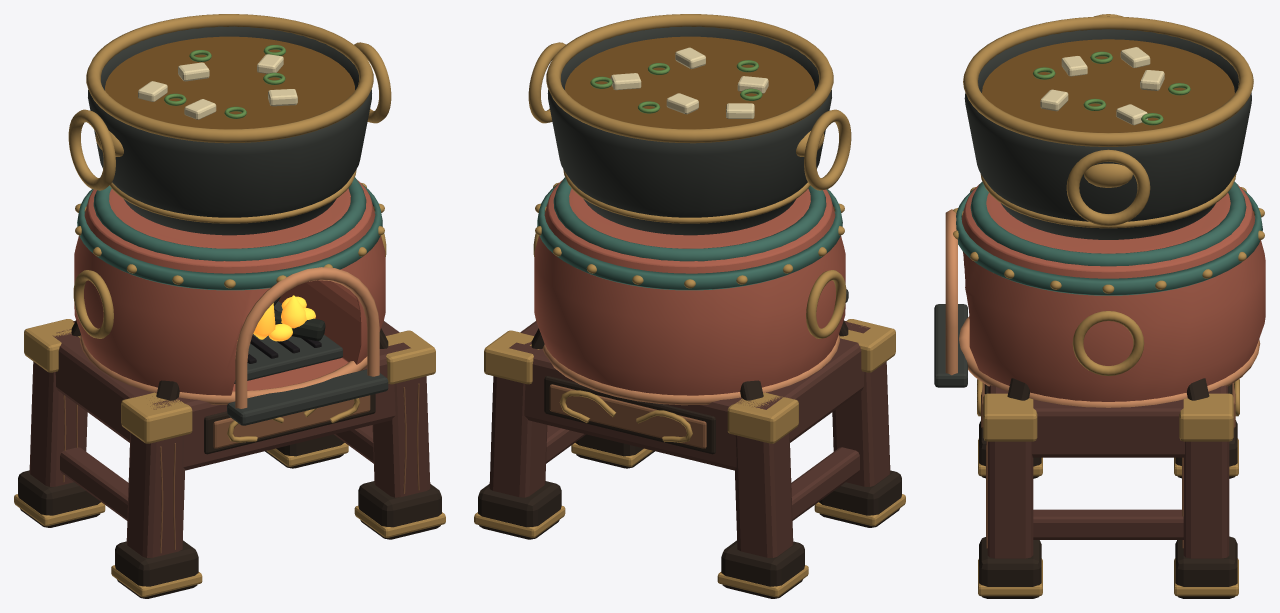
Rendered from food_stove.glb.
3 renders of one model, left to right at view 1: azimuth 30°, elevation 25°; view 2: azimuth 150°, elevation 25°; view 3: azimuth 270°, elevation 25°, orthographic.
Visible parts, largest first — view 1: food_stove; view 2: food_stove; view 3: food_stove.
Boxes of the visible parts, box(x1,y1,x2,y2) form: food_stove: box(14, 14, 445, 598); food_stove: box(474, 14, 905, 598); food_stove: box(934, 14, 1265, 598).
Bounding box in the file's own units: 1.05 × 1.48 × 0.98.
2 materials, 2 textured.
